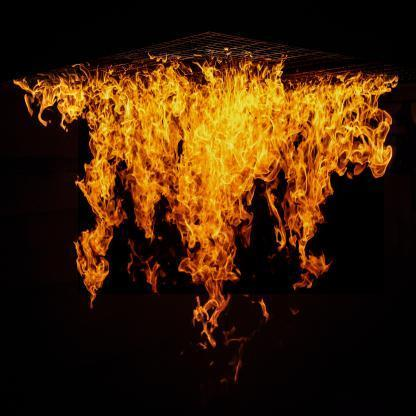Fire: (11, 36, 416, 336)
